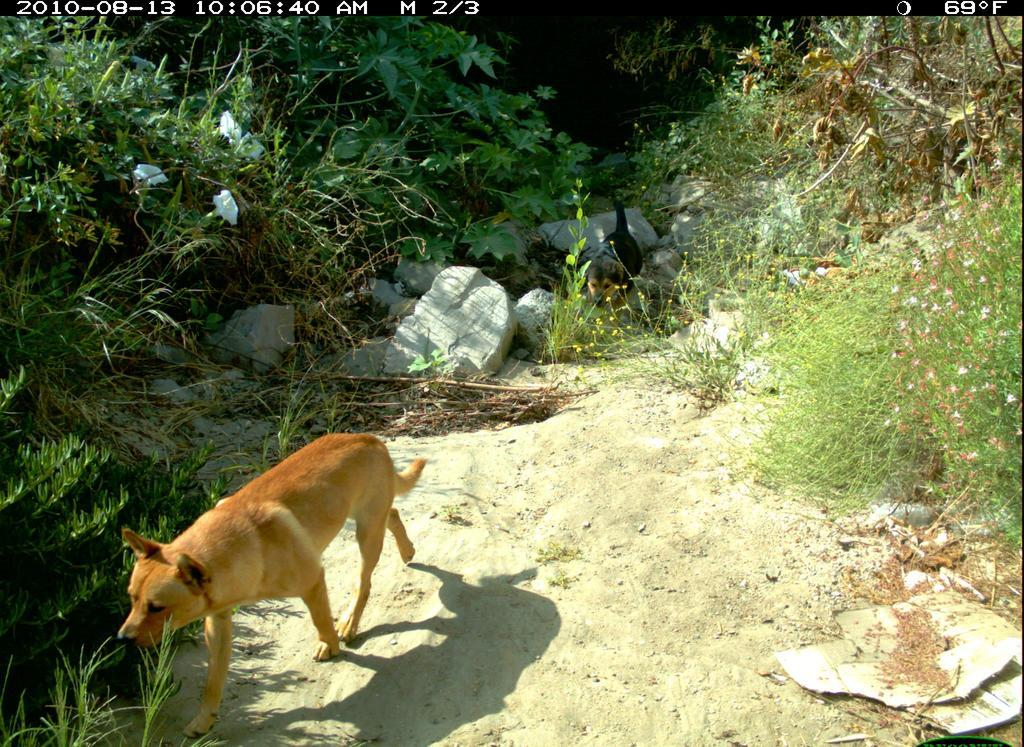dog: (77, 425, 429, 734), (574, 193, 652, 315)
